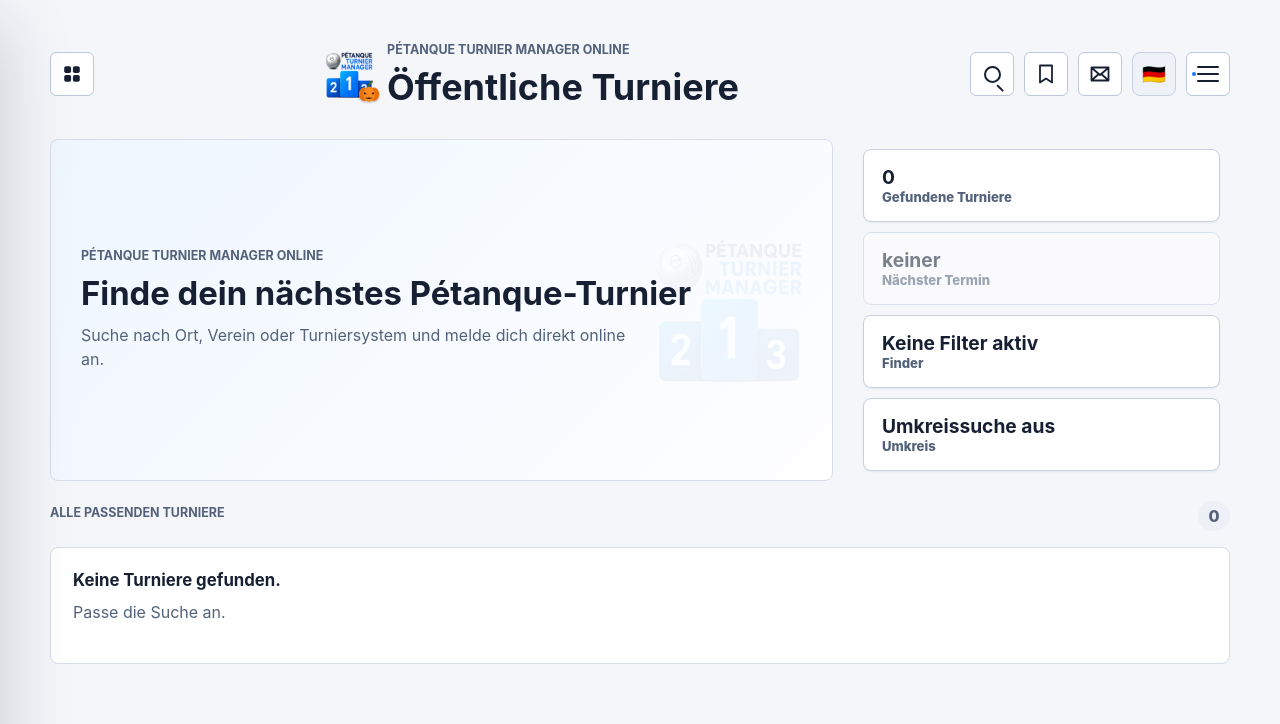
Scenario: Anmeldungen: automatische Turnierauswahl beim ersten Öffnen › öffnet Turnier melden aus dem geöffneten Menü, ohne den neuen Routen-Eintrag zurückzunehmen
Click the button named "Menü öffnen". click: [1208, 74]
box: [1186, 52, 1230, 96]
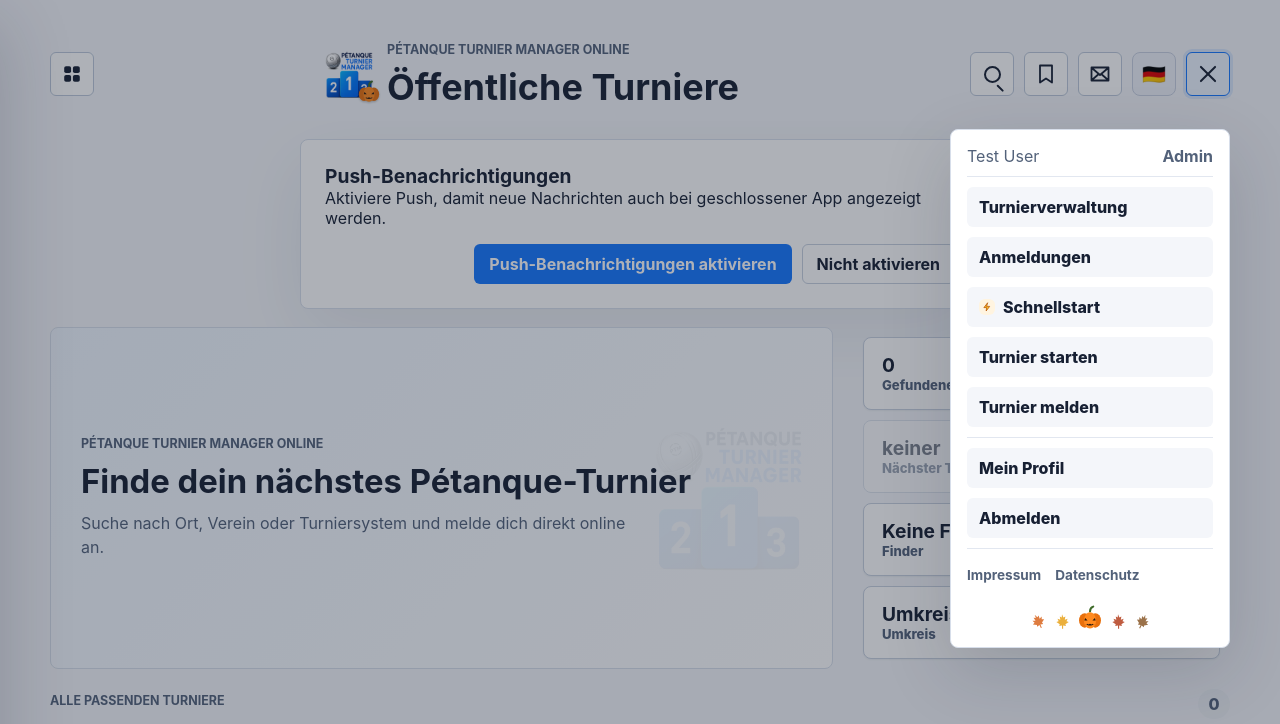
Click the button "Turnier melden". click: [1090, 407]
box: [967, 387, 1213, 427]
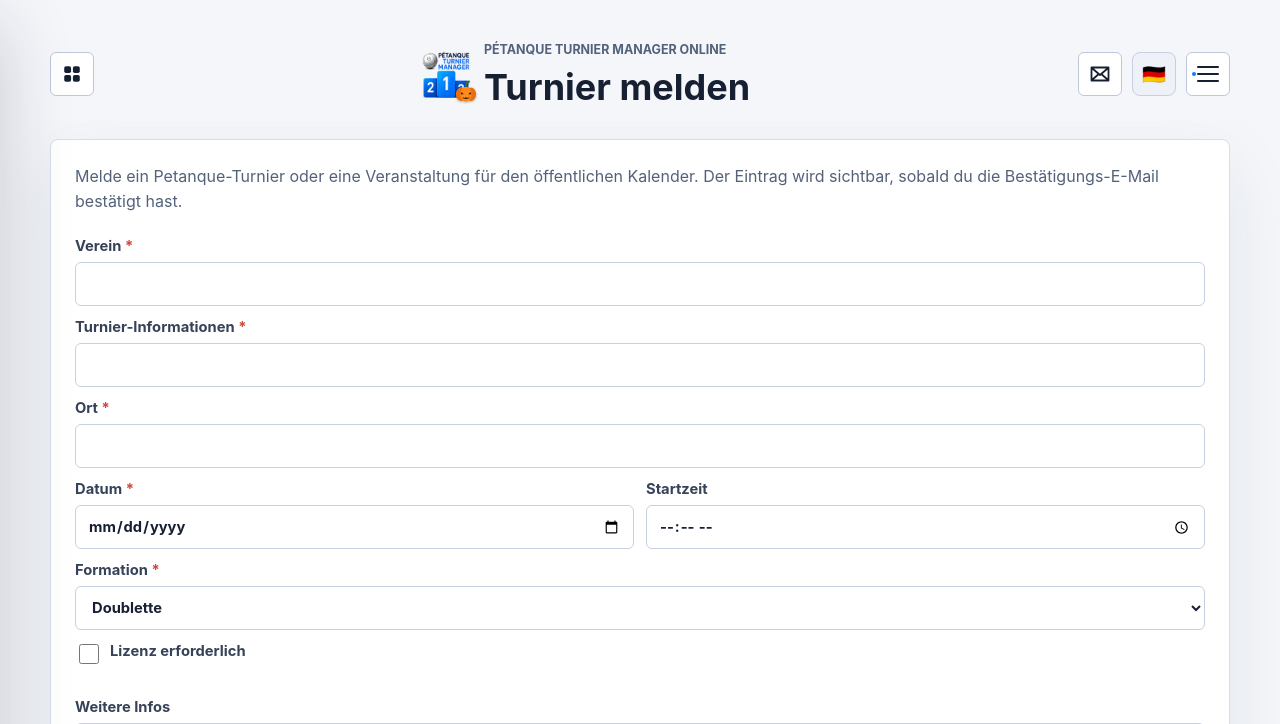
Expected: the text "Melde ein Petanque-Turnier" is shown, [75, 166, 1159, 211]
